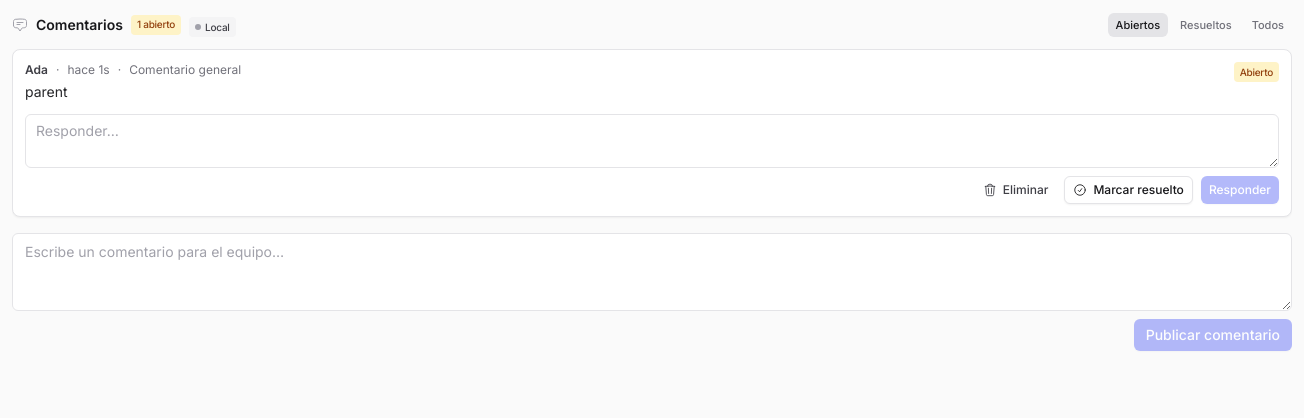
CommentThread › adds a reply and increases the thread length
Step 1. Type "mi respuesta" into the text box with placeholder "Responder…" → (652, 141), box x1=25 y1=114 x2=1279 y2=168
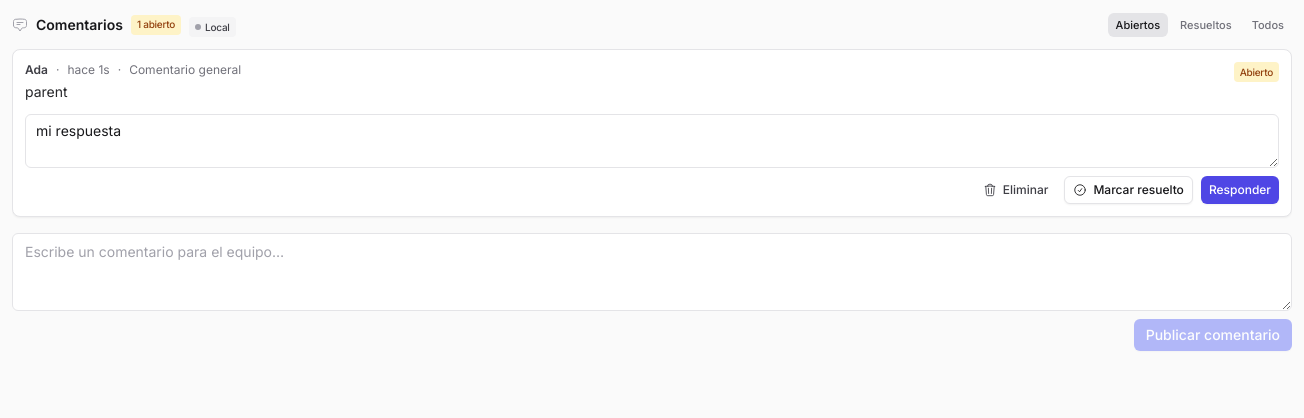
Step 2. Click the button "Responder" → (1240, 190), box x1=1201 y1=176 x2=1279 y2=204
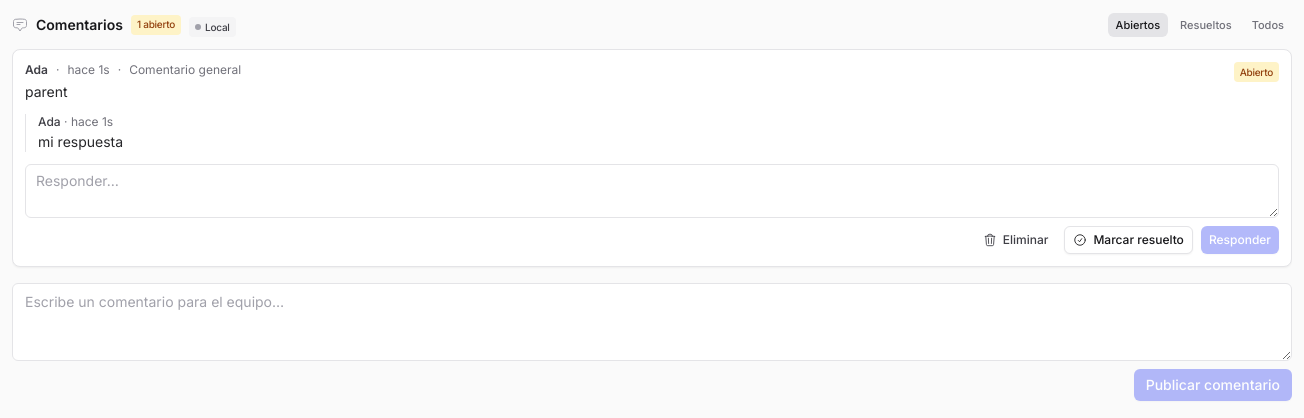
Now the text "mi respuesta" is shown, box x1=38 y1=133 x2=123 y2=150
